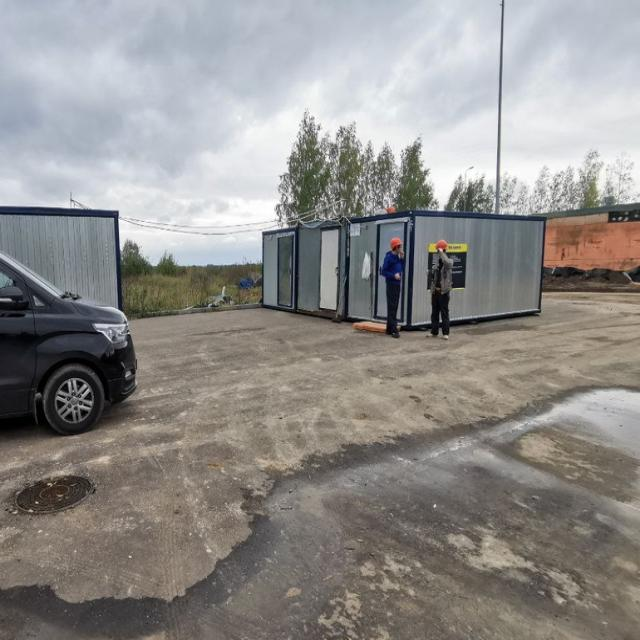Helmet: (391, 238, 404, 255), (436, 241, 449, 257)
